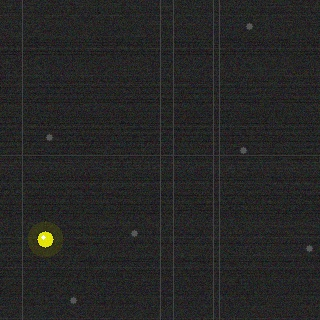yellow_warning: (35, 229, 55, 249)
